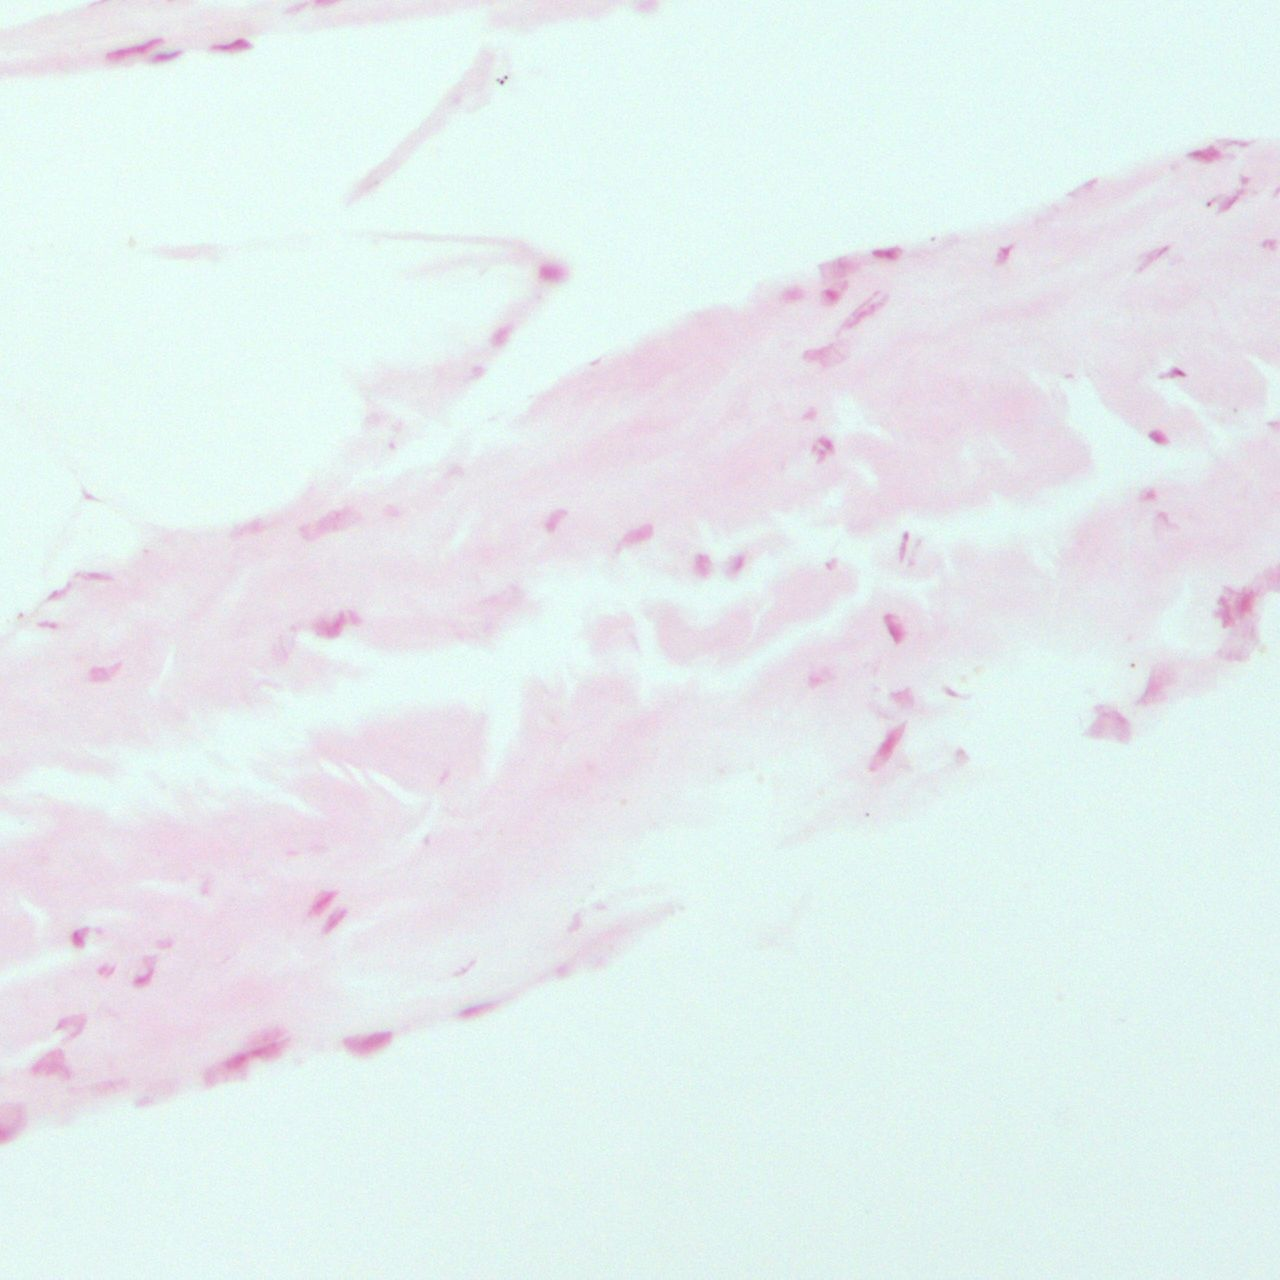dust: (930, 236, 937, 241), (499, 79, 504, 86), (503, 74, 509, 79), (1130, 663, 1136, 668)
nucleus-AC: (199, 1033, 297, 1091), (297, 503, 365, 544), (835, 286, 888, 336), (866, 717, 910, 775), (1083, 704, 1136, 748), (341, 1027, 396, 1060), (1133, 665, 1173, 708), (615, 516, 658, 554), (105, 36, 166, 62), (29, 1046, 72, 1081), (1132, 240, 1173, 274), (801, 342, 845, 373), (129, 949, 163, 989), (229, 511, 270, 544), (819, 251, 860, 282), (308, 611, 350, 639), (1213, 186, 1247, 220), (306, 886, 336, 921), (53, 1012, 86, 1043), (45, 576, 77, 607), (723, 549, 750, 583), (209, 35, 254, 55), (86, 660, 123, 683), (457, 999, 496, 1021), (321, 905, 347, 935), (1233, 584, 1255, 619), (488, 321, 515, 349), (939, 682, 968, 708), (542, 505, 567, 535), (1182, 144, 1227, 161), (883, 610, 903, 646), (990, 240, 1015, 267), (777, 282, 806, 305), (890, 687, 915, 712), (452, 955, 479, 979), (537, 261, 568, 281), (871, 244, 903, 264), (149, 48, 184, 64), (1216, 595, 1232, 629), (565, 908, 586, 934), (695, 550, 714, 578), (74, 570, 113, 583), (804, 667, 826, 689), (72, 924, 91, 948), (1159, 365, 1186, 382), (1146, 428, 1171, 445), (1223, 136, 1251, 150), (898, 530, 910, 563), (156, 937, 177, 953), (32, 617, 57, 629), (1155, 510, 1173, 527), (97, 960, 115, 978), (821, 288, 839, 305), (1139, 485, 1156, 502), (1261, 239, 1278, 253), (470, 365, 486, 377), (554, 964, 568, 978), (823, 557, 838, 570), (819, 437, 832, 452), (801, 408, 815, 421), (1268, 418, 1280, 433), (198, 881, 210, 896), (1238, 173, 1250, 186), (815, 451, 826, 464)
